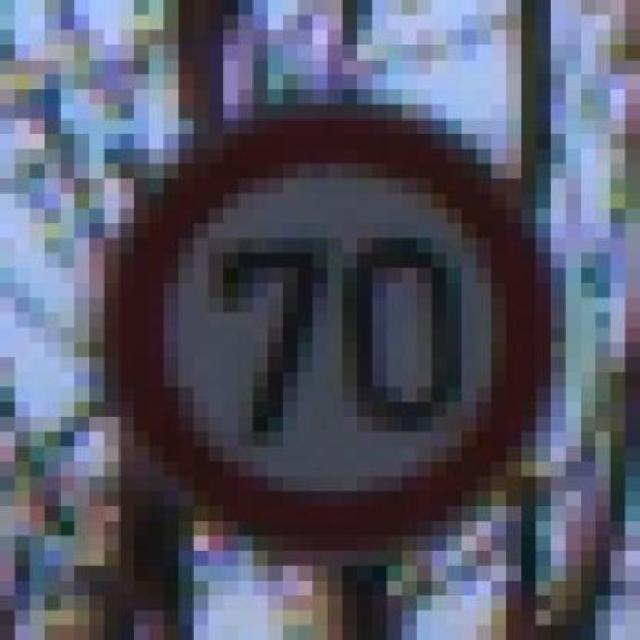forb_speed_over_70: (113, 105, 559, 556)
